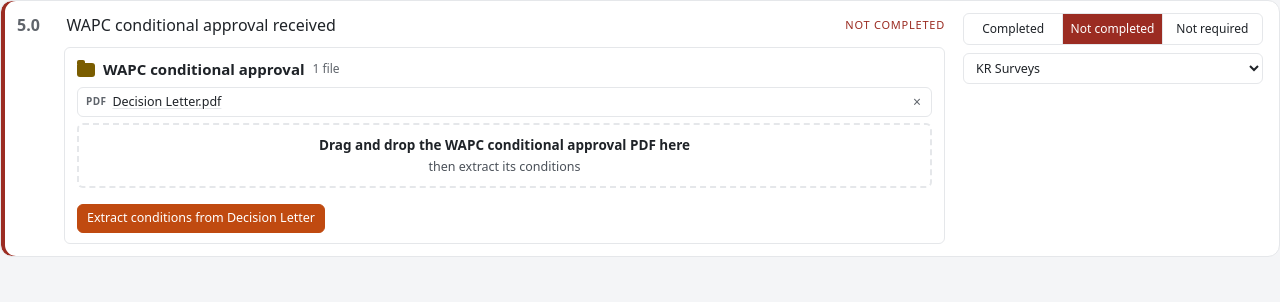
conditions panel: the folder and the extraction › says when no numbered conditions were found
Click the button "Extract conditions from Decision Letter" at (201, 219), box top-left (77, 204), bottom-right (325, 233)
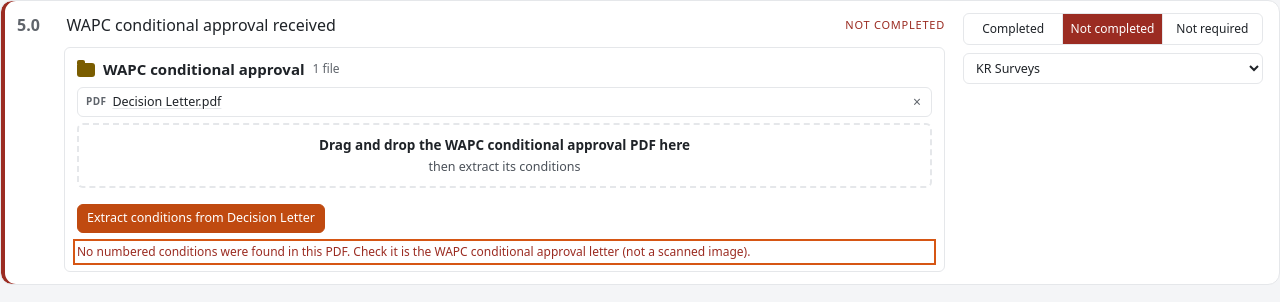
expect the text "No numbered conditions were found in this PDF. Check it is the WAPC conditional approval letter (not a scanned image)." is shown: met, box top-left (77, 243), bottom-right (750, 260)
